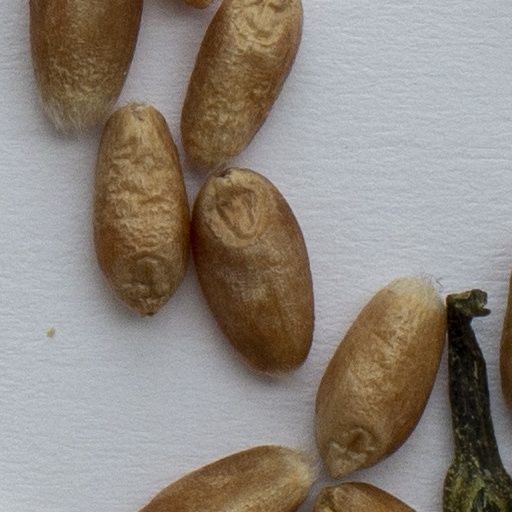Peel-poly: (443, 293, 511, 511)
